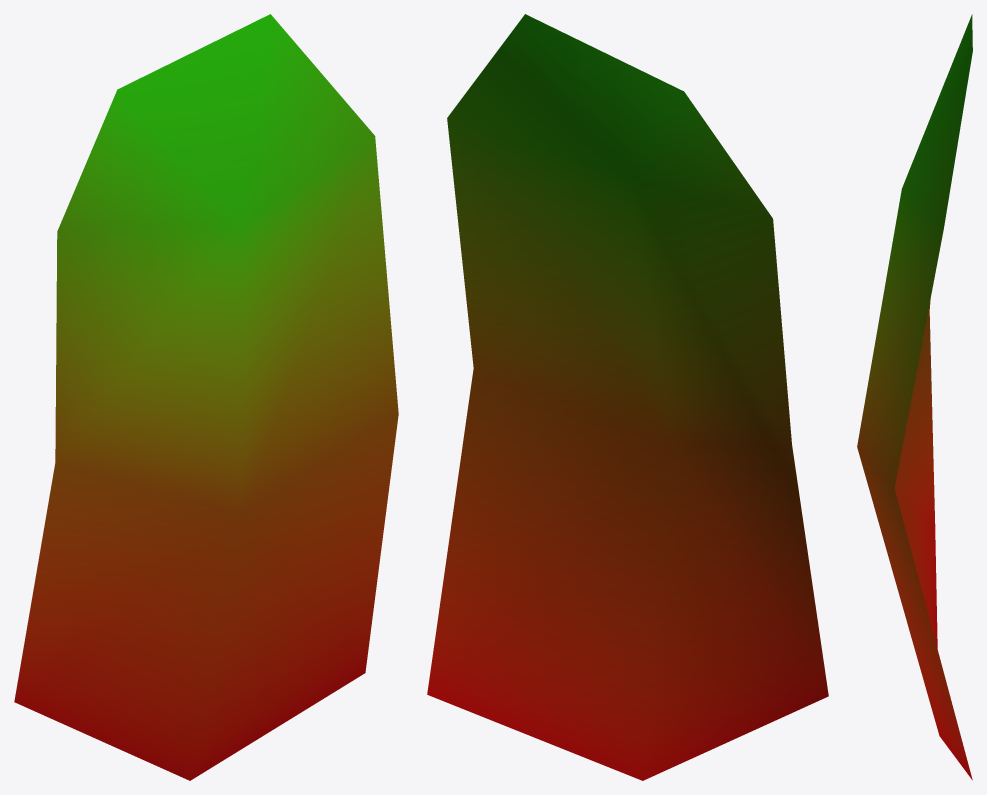
File: Var5_LOD6.fbx
3 renders of one model, left to right at view 1: azimuth 30°, elevation 25°; view 2: azimuth 150°, elevation 25°; view 3: azimuth 270°, elevation 25°, orthographic. The views are drawn at different scales.
Visible parts, largest first — view 1: _1652_Var5_LOD6; view 2: _1652_Var5_LOD6; view 3: _1652_Var5_LOD6.
Part boxes in pixels (left/top/right/bottom): _1652_Var5_LOD6: left=14, top=14, right=398, bottom=780; _1652_Var5_LOD6: left=427, top=14, right=828, bottom=780; _1652_Var5_LOD6: left=857, top=14, right=972, bottom=780.
Size of the model in its own units: 67.89 by 128 by 18.37.
